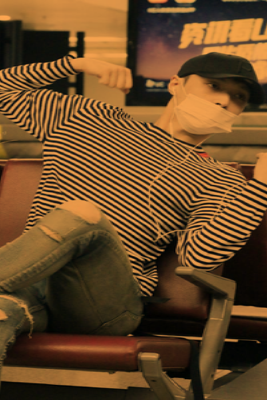mask_weared_incorrect: (178, 77, 248, 133)
